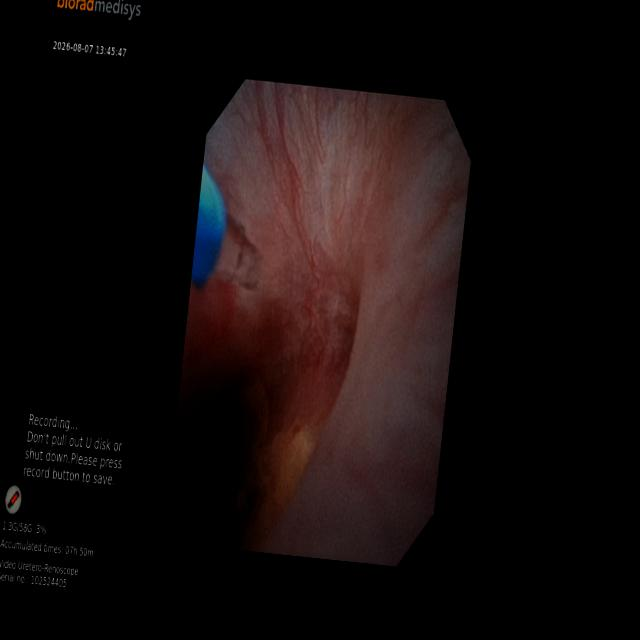laser-fibre: (213, 213, 261, 288)
stone-new: (172, 372, 269, 547)
